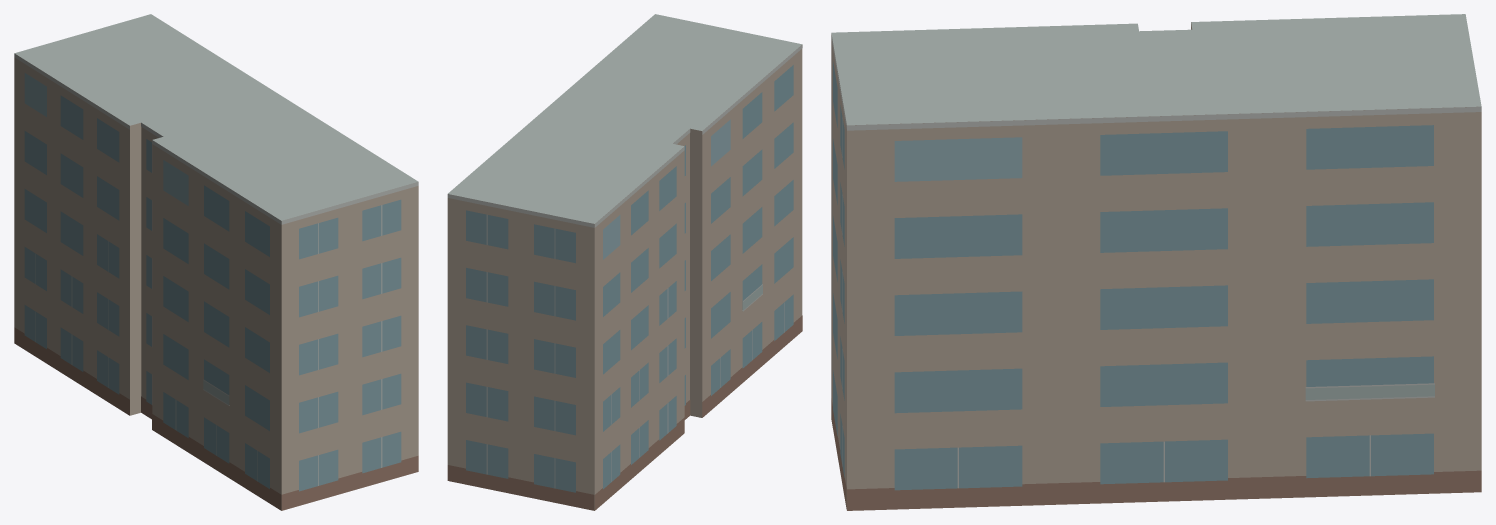
The model's file is survey-upis-33004386.glb.
The picture shows the model from 3 angles, left to right: view 1: azimuth 30°, elevation 25°; view 2: azimuth 150°, elevation 25°; view 3: azimuth 270°, elevation 25°; orthographic projection. The views are drawn at different scales.
Parts seen in each view (by area): view 1: survey-upis-33004386.tmp; view 2: survey-upis-33004386.tmp; view 3: survey-upis-33004386.tmp.
Boxes of the visible parts, box(x1,y1,x2,y2) form: survey-upis-33004386.tmp: box(14, 14, 418, 510); survey-upis-33004386.tmp: box(447, 14, 802, 510); survey-upis-33004386.tmp: box(831, 14, 1481, 510).
Size of the model in its own units: 10.91 by 17.6 by 26.92.
